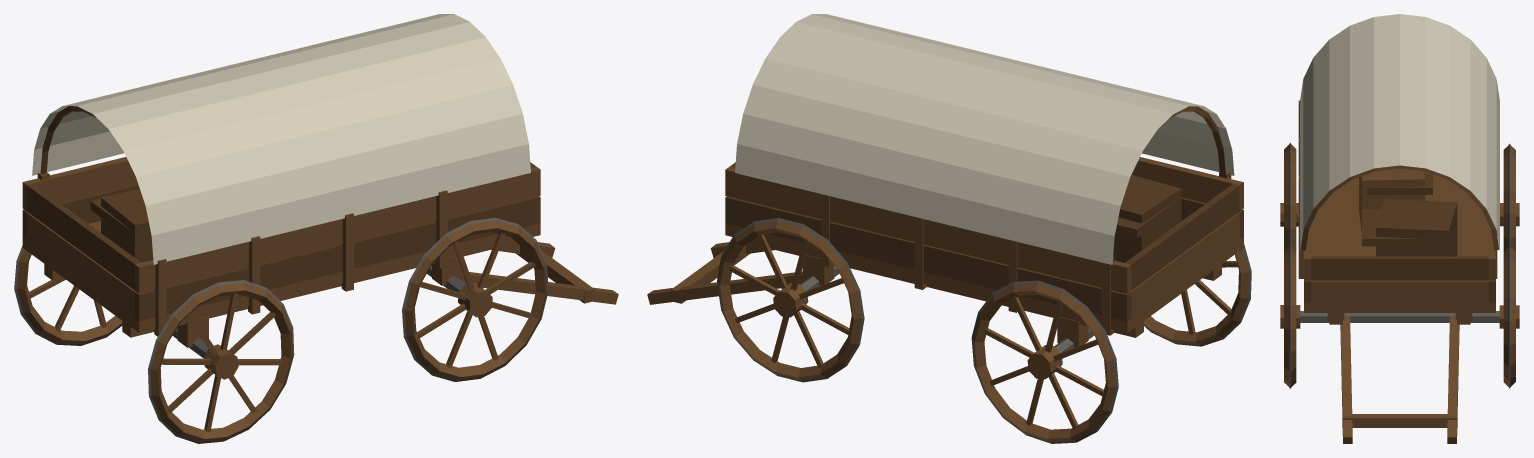
Rendered from cart-goods-a.glb.
3 renders of one model, left to right at view 1: azimuth 30°, elevation 25°; view 2: azimuth 150°, elevation 25°; view 3: azimuth 270°, elevation 25°, orthographic. The views are drawn at different scales.
Parts seen in each view (by area): view 1: Body_Canvas, Body_Wood, Body_WoodDark, Body_Iron; view 2: Body_Canvas, Body_Wood, Body_WoodDark, Body_Iron; view 3: Body_Canvas, Body_Wood, Body_WoodDark, Body_Iron.
Part boxes in pixels (left/top/right/bottom): Body_Canvas: left=32, top=14, right=530, bottom=264; Body_Wood: left=17, top=157, right=618, bottom=441; Body_WoodDark: left=22, top=106, right=540, bottom=321; Body_Iron: left=14, top=217, right=548, bottom=443; Body_Canvas: left=735, top=14, right=1234, bottom=264; Body_Wood: left=647, top=157, right=1248, bottom=441; Body_WoodDark: left=725, top=106, right=1243, bottom=321; Body_Iron: left=717, top=218, right=1251, bottom=443; Body_Canvas: left=1300, top=14, right=1499, bottom=250; Body_Wood: left=1280, top=100, right=1519, bottom=443; Body_WoodDark: left=1300, top=165, right=1499, bottom=303; Body_Iron: left=1289, top=142, right=1510, bottom=388.
Size of the model in its own units: 3.4 by 1.9 by 1.7.
